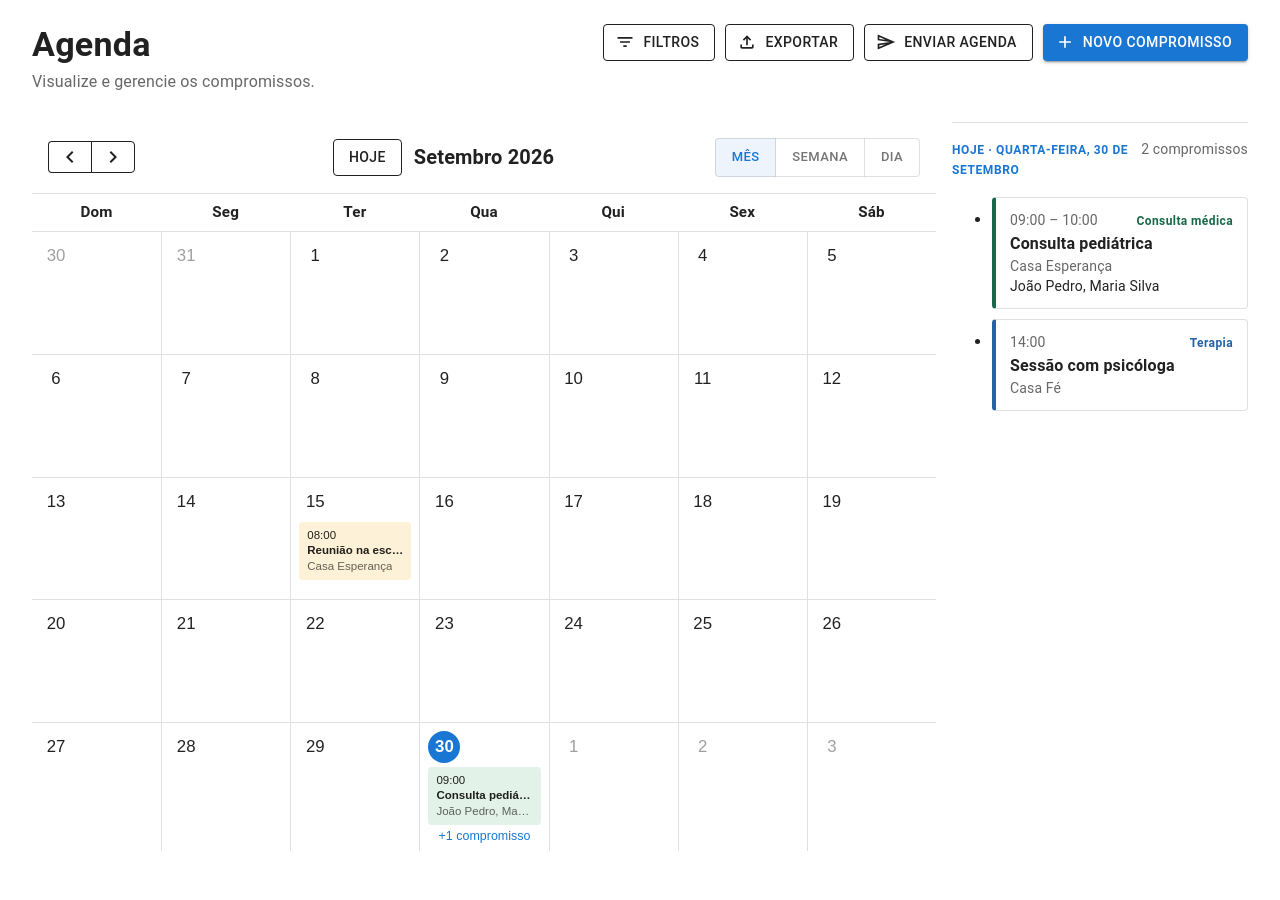
Test case: AgendaPage › troca a lista ao tocar em outro dia, e avisa quando o dia está vazio
Expected: the text "Consulta pediátrica" below "Hoje · quarta-feira, 30 de setembro" is shown, 1010,234 -> 1153,253
Click the button named "15 de setembro, 1 compromisso".
click(355, 502)  # box 299,486 -> 411,518
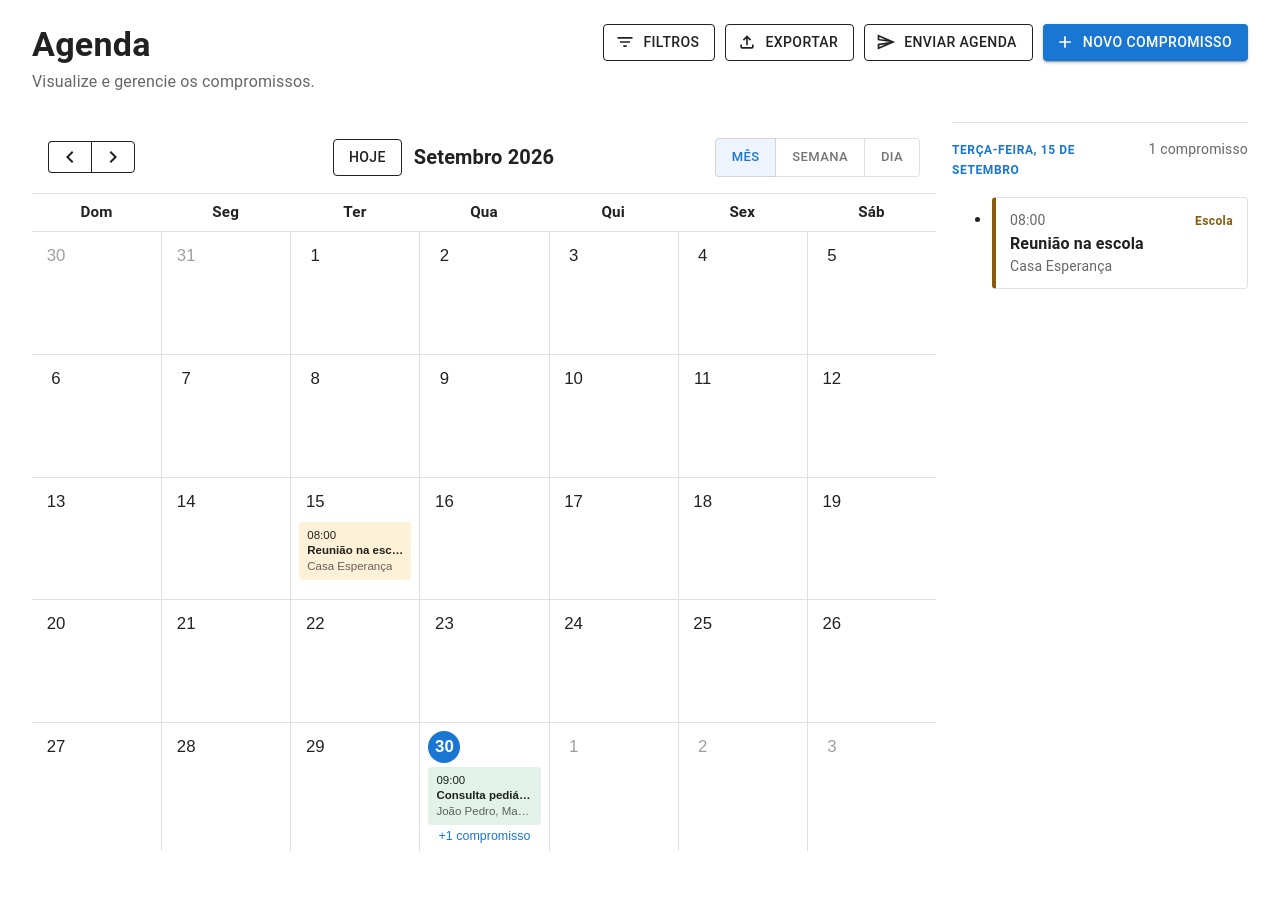
Now the text "Reunião na escola" below "Terça-feira, 15 de setembro" is shown, box 1010,234 -> 1144,253
Now the heading "Terça-feira, 15 de setembro" is shown, box 952,143 -> 1075,177
Click the button named "16 de setembro, nenhum compromisso".
click(484, 502)  # box 428,486 -> 540,518
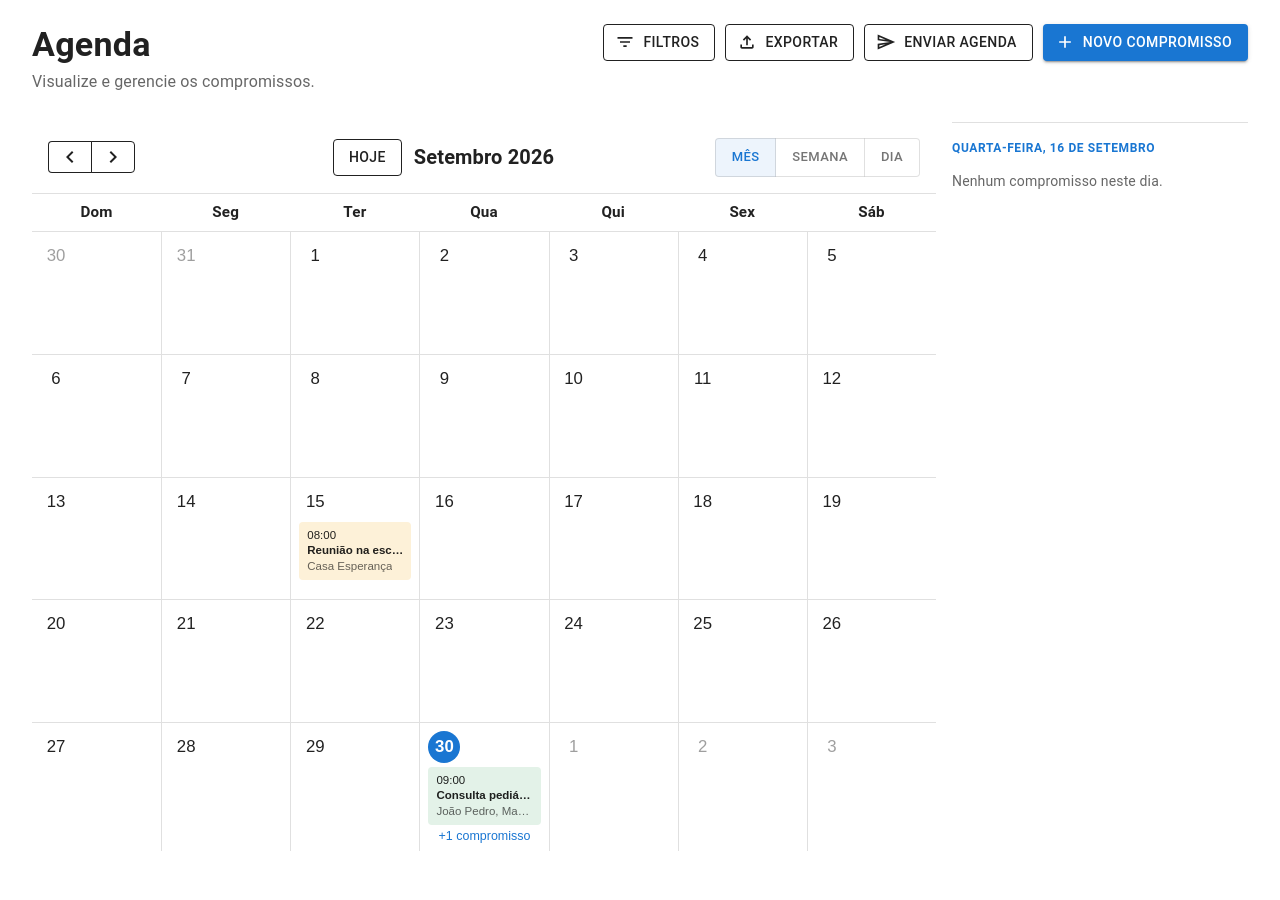
Now the text "Nenhum compromisso neste dia." is shown, box 952,173 -> 1163,189
